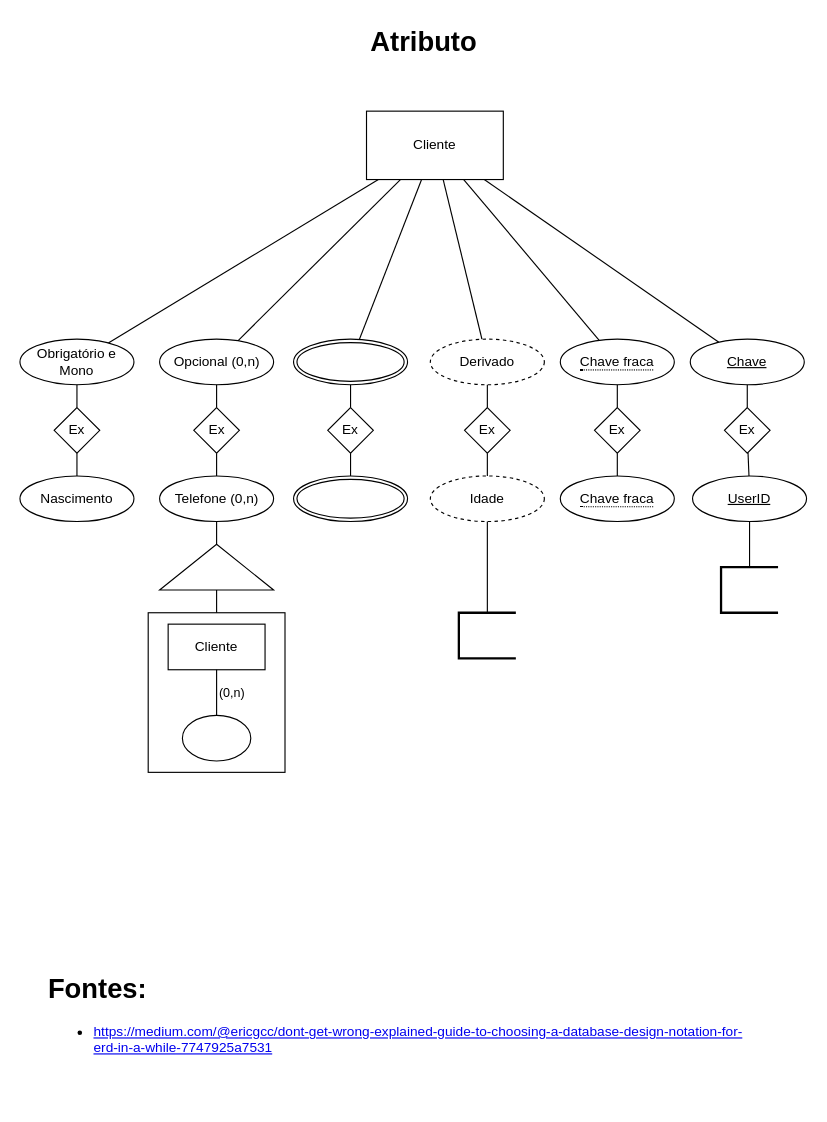
Some shapes in this 827 by 1122 pixel diagram are drawn without their labels. Here are the shapes that lost their labels. From the top down, the centre of each, then its label:
At point (350, 361): "Multivalor".
At point (350, 498): "Passatempo".
At point (216, 566): "alternativa".
At point (749, 589): "Chave única".
At point (486, 635): "Valor redundante, derivado da data de nascimento".
At point (216, 737): "Telefone".
